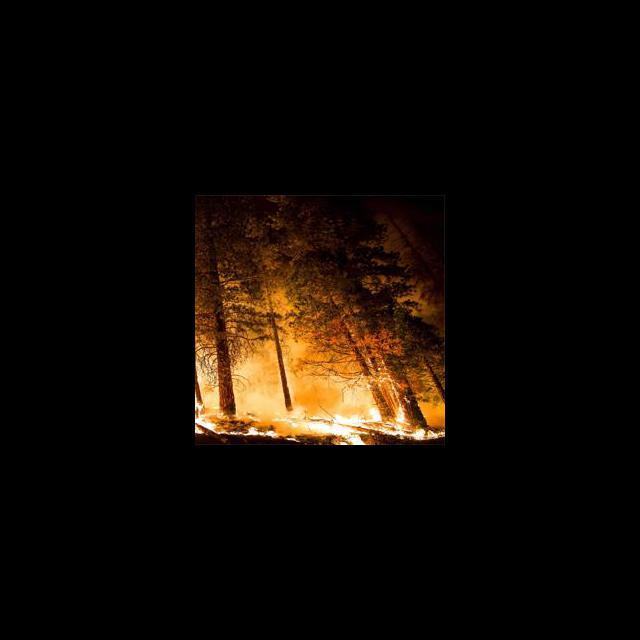Fire: (196, 367, 445, 444)
